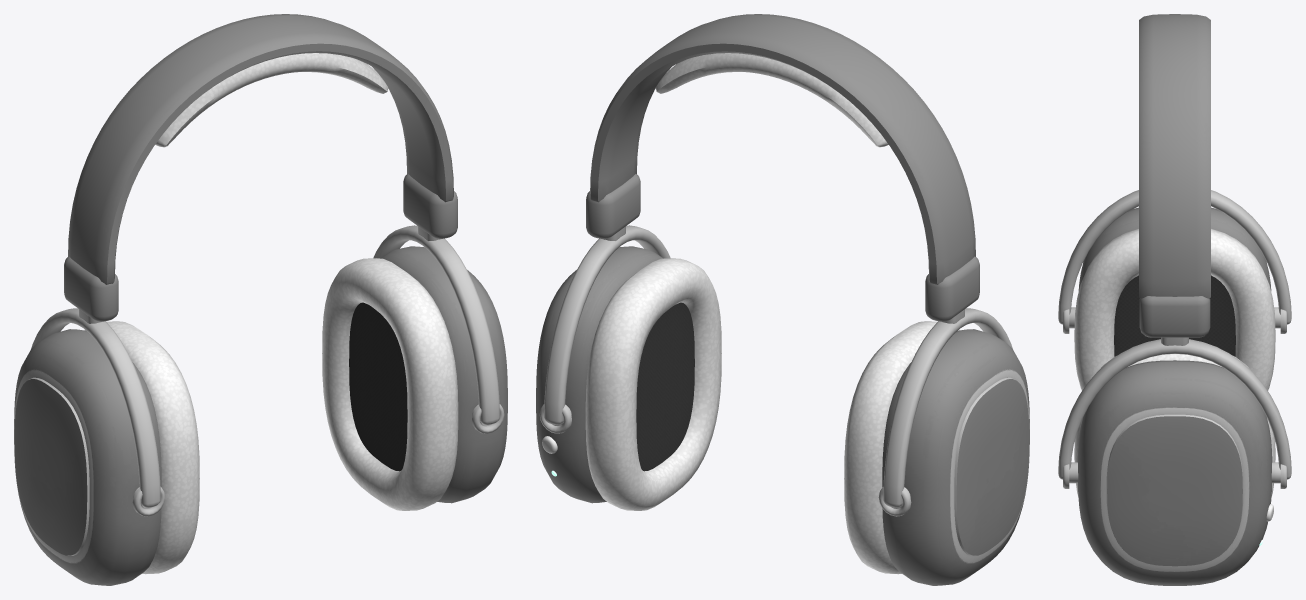
File: headphones.glb
3 renders of one model, left to right at view 1: azimuth 30°, elevation 25°; view 2: azimuth 150°, elevation 25°; view 3: azimuth 270°, elevation 25°, orthographic. The views are drawn at different scales.
Visible parts, largest first — view 1: headphones_body, headphones_right_cup, headphones_left_cup; view 2: headphones_body, headphones_right_cup, headphones_left_cup; view 3: headphones_right_cup, headphones_body, headphones_left_cup.
Boxes of the visible parts, box(x1,y1,x2,y2) form: headphones_body: box(31, 14, 504, 516); headphones_right_cup: box(322, 246, 507, 510); headphones_left_cup: box(14, 321, 199, 585); headphones_body: box(539, 14, 1012, 516); headphones_right_cup: box(536, 246, 721, 510); headphones_left_cup: box(844, 321, 1029, 585); headphones_right_cup: box(1069, 354, 1280, 585); headphones_body: box(1058, 14, 1291, 488); headphones_left_cup: box(1069, 207, 1280, 390).
Bounding box in the file's own units: 0.1962 × 0.2207 × 0.0994.
Materials: 4 (3 with a texture image).
